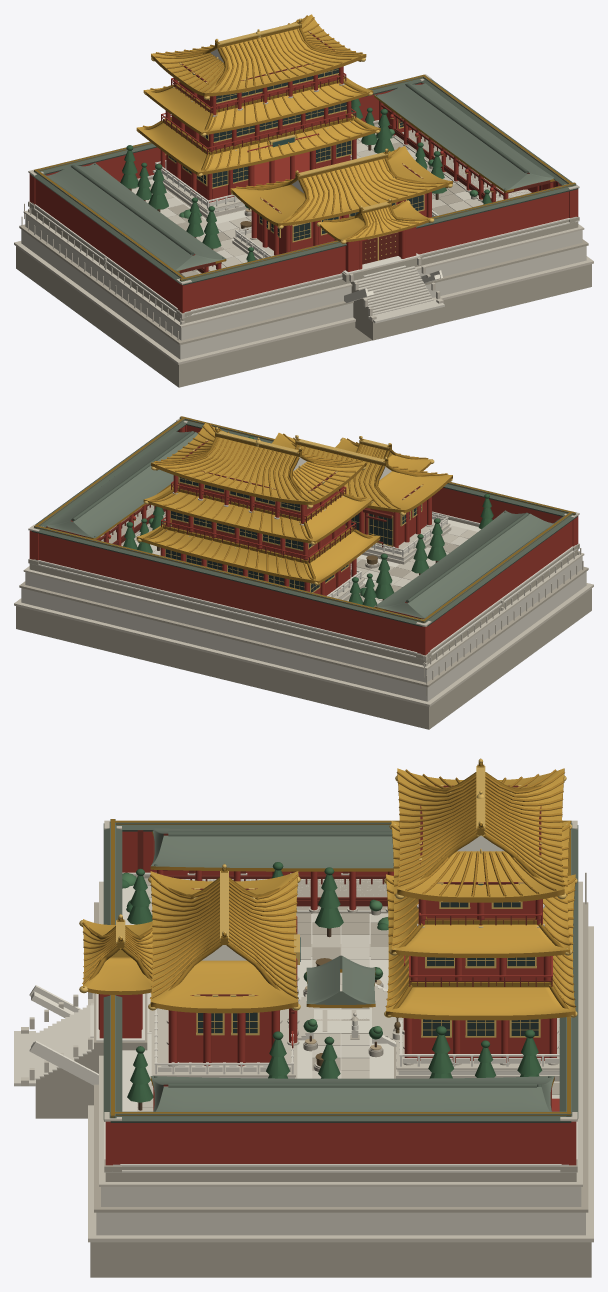
3 views of the same model, one above another, from view 1: azimuth 30°, elevation 25°; view 2: azimuth 150°, elevation 25°; view 3: azimuth 270°, elevation 25° (orthographic). The views are drawn at different scales.
Bounding box in the file's own units: 0.6038 × 0.2995 × 0.4738.
